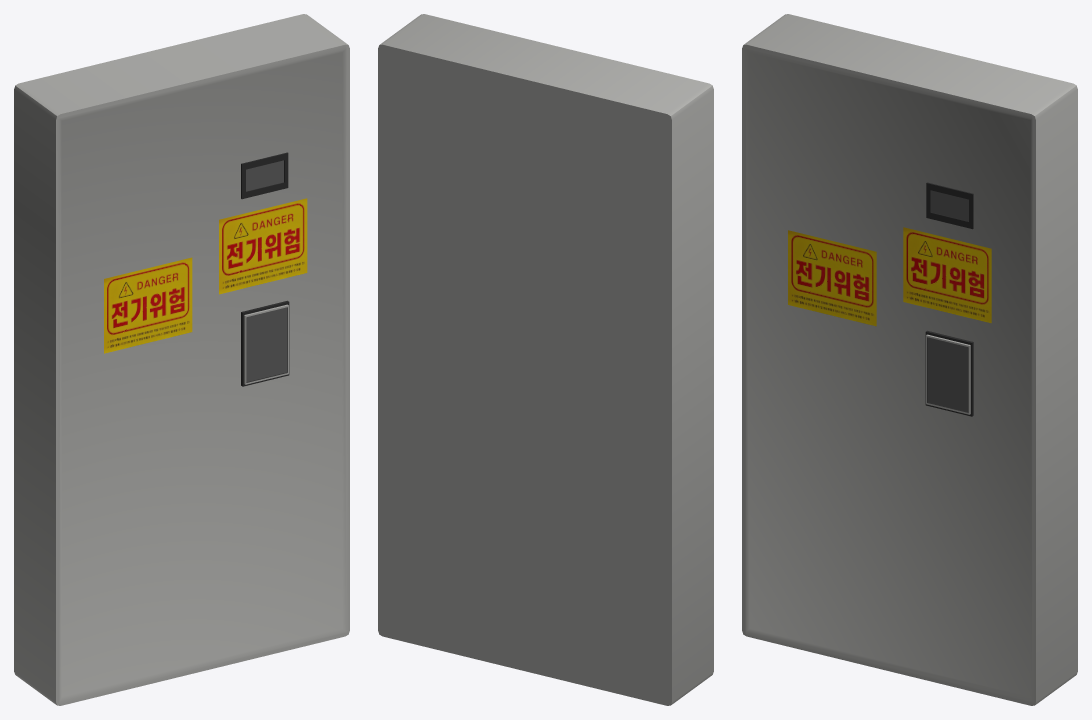
The picture shows the model from 3 angles, left to right: view 1: azimuth 30°, elevation 25°; view 2: azimuth 150°, elevation 25°; view 3: azimuth 330°, elevation 25°; orthographic projection.
Visible parts, largest first — view 1: PLC본체(전원환경감시)003; view 2: PLC본체(전원환경감시)003; view 3: PLC본체(전원환경감시)003.
Boxes of the visible parts, box(x1,y1,x2,y2) form: PLC본체(전원환경감시)003: box(14, 14, 349, 705); PLC본체(전원환경감시)003: box(378, 14, 713, 705); PLC본체(전원환경감시)003: box(742, 14, 1077, 705).
Size of the model in its own units: 1 by 1.92 by 0.2628.
Materials: 4 (1 with a texture image).
